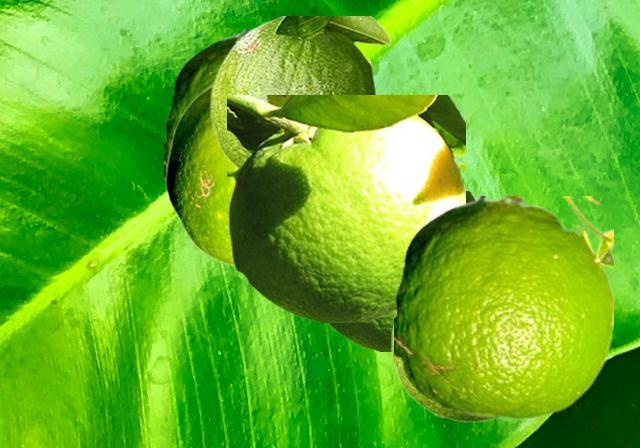dalandan: (227, 95, 464, 321), (394, 196, 612, 418), (164, 29, 369, 183), (209, 16, 390, 168), (325, 191, 476, 350), (165, 72, 235, 267), (390, 315, 503, 421)
